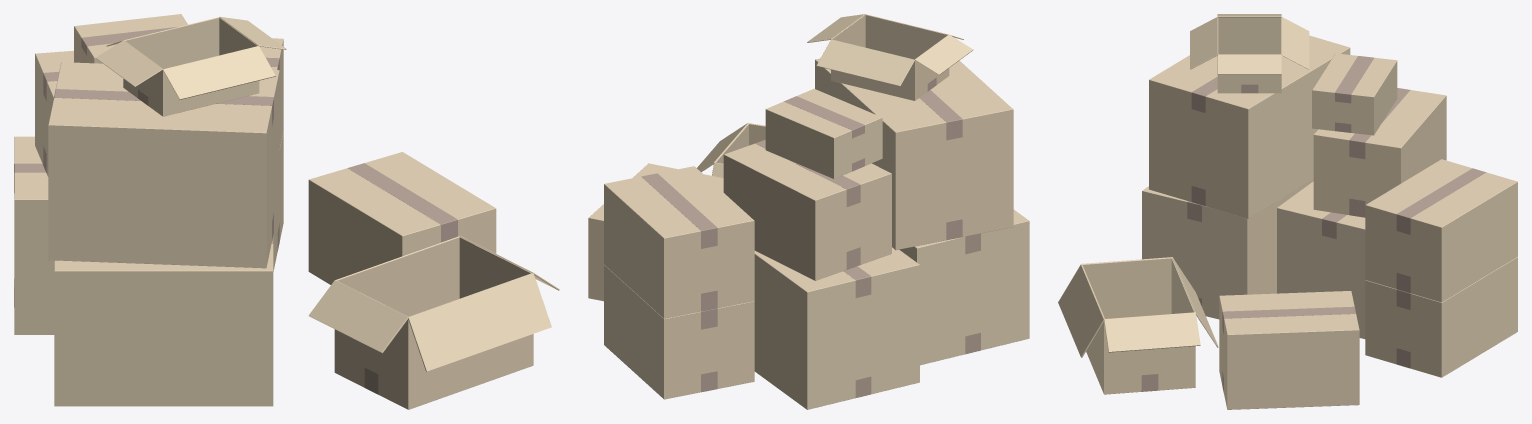
The model's file is 071_積まれたダンボール.glb.
3 views of the same model, side by side, from view 1: azimuth 30°, elevation 25°; view 2: azimuth 150°, elevation 25°; view 3: azimuth 270°, elevation 25° (orthographic). The views are drawn at different scales.
Visible parts, largest first — view 1: 065_ダンボール大(閉)2, 065_ダンボール大(閉)1, 068_ダンボール中(開), 067_ダンボール中(閉)4, 070_ダンボール小(開), 065_ダンボール大(閉)3, 069_ダンボール小(閉), 067_ダンボール中(閉)3, 067_ダンボール中(閉)2, 067_ダンボール中(閉)1; view 2: 065_ダンボール大(閉)3, 065_ダンボール大(閉)2, 067_ダンボール中(閉)2, 067_ダンボール中(閉)3, 065_ダンボール大(閉)1, 067_ダンボール中(閉)1, 070_ダンボール小(開), 069_ダンボール小(閉), 067_ダンボール中(閉)4, 068_ダンボール中(開); view 3: 065_ダンボール大(閉)2, 067_ダンボール中(閉)2, 067_ダンボール中(閉)4, 068_ダンボール中(開), 067_ダンボール中(閉)1, 065_ダンボール大(閉)1, 067_ダンボール中(閉)3, 065_ダンボール大(閉)3, 070_ダンボール小(開), 069_ダンボール小(閉).
Boxes of the visible parts, x1=… form: 065_ダンボール大(閉)2: x1=48, y1=62, x2=279, y2=268; 065_ダンボール大(閉)1: x1=54, y1=236, x2=273, y2=406; 068_ダンボール中(開): x1=308, y1=235, x2=559, y2=409; 067_ダンボール中(閉)4: x1=308, y1=152, x2=496, y2=284; 070_ダンボール小(開): x1=96, y1=16, x2=286, y2=116; 065_ダンボール大(閉)3: x1=14, y1=136, x2=54, y2=334; 069_ダンボール小(閉): x1=74, y1=14, x2=187, y2=63; 067_ダンボール中(閉)3: x1=35, y1=50, x2=73, y2=176; 067_ダンボール中(閉)2: x1=259, y1=38, x2=283, y2=148; 067_ダンボール中(閉)1: x1=273, y1=131, x2=283, y2=271; 065_ダンボール大(閉)3: x1=754, y1=247, x2=919, y2=409; 065_ダンボール大(閉)2: x1=815, y1=58, x2=1013, y2=250; 067_ダンボール中(閉)2: x1=604, y1=166, x2=754, y2=318; 067_ダンボール中(閉)3: x1=723, y1=140, x2=891, y2=280; 065_ダンボール大(閉)1: x1=899, y1=209, x2=1029, y2=365; 067_ダンボール中(閉)1: x1=604, y1=264, x2=754, y2=399; 070_ダンボール小(開): x1=807, y1=14, x2=973, y2=100; 069_ダンボール小(閉): x1=765, y1=88, x2=882, y2=178; 067_ダンボール中(閉)4: x1=588, y1=163, x2=723, y2=301; 068_ダンボール中(開): x1=697, y1=122, x2=765, y2=177; 065_ダンボール大(閉)2: x1=1149, y1=35, x2=1350, y2=218; 067_ダンボール中(閉)2: x1=1365, y1=159, x2=1517, y2=302; 067_ダンボール中(閉)4: x1=1219, y1=291, x2=1359, y2=409; 068_ダンボール中(開): x1=1058, y1=257, x2=1218, y2=394; 067_ダンボール中(閉)1: x1=1365, y1=257, x2=1517, y2=377; 065_ダンボール大(閉)1: x1=1142, y1=180, x2=1313, y2=319; 067_ダンボール中(閉)3: x1=1313, y1=88, x2=1446, y2=217; 065_ダンボール大(閉)3: x1=1277, y1=181, x2=1365, y2=338; 070_ダンボール小(開): x1=1190, y1=14, x2=1309, y2=93; 069_ダンボール小(閉): x1=1312, y1=53, x2=1397, y2=135.
Size of the model in its own units: 1.46 by 1.01 by 1.63.
